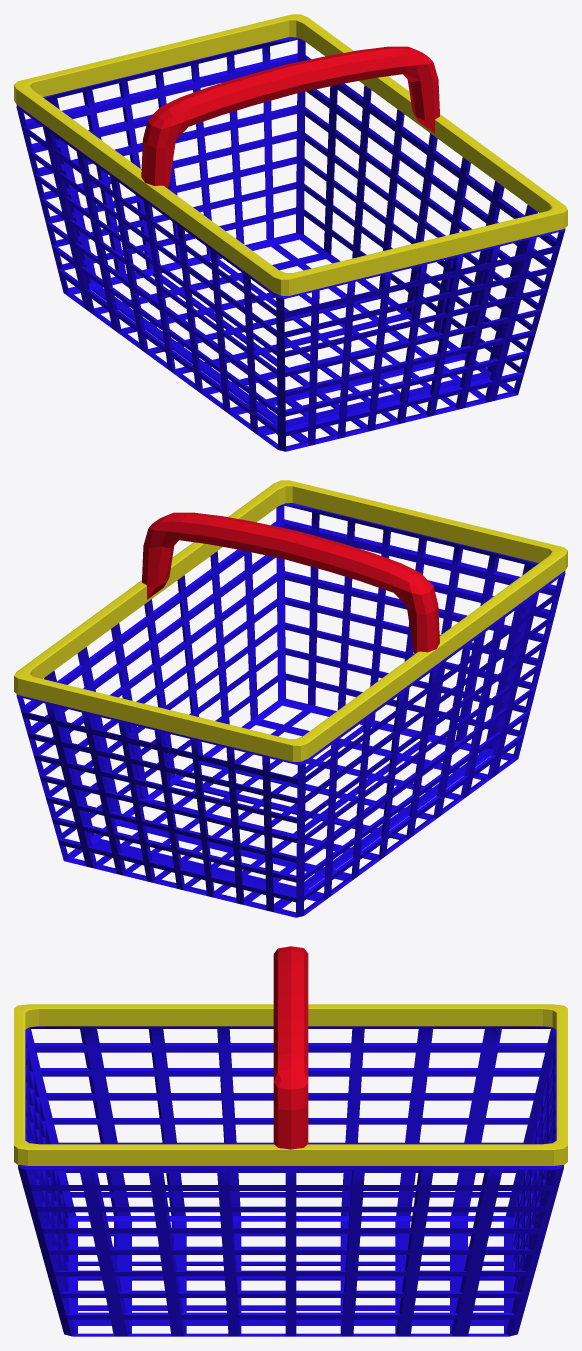
File: liiil.fbx
3 renders of one model, top to bottom at view 1: azimuth 30°, elevation 25°; view 2: azimuth 150°, elevation 25°; view 3: azimuth 270°, elevation 25°, orthographic. The views are drawn at different scales.
Visible parts, largest first — view 1: Cube, Cube.002, Cube.001; view 2: Cube, Cube.002, Cube.001; view 3: Cube, Cube.002, Cube.001.
Part boxes in pixels (left/top/right/bottom): Cube: left=16, top=37, right=565, bottom=451; Cube.002: left=14, top=14, right=567, bottom=295; Cube.001: left=141, top=46, right=439, bottom=188; Cube: left=16, top=503, right=565, bottom=917; Cube.002: left=14, top=480, right=567, bottom=761; Cube.001: left=142, top=512, right=439, bottom=653; Cube: left=18, top=1026, right=563, bottom=1336; Cube.002: left=14, top=1004, right=567, bottom=1165; Cube.001: left=273, top=946, right=308, bottom=1149.
Bounding box in the file's own units: 227 × 207 × 365.
